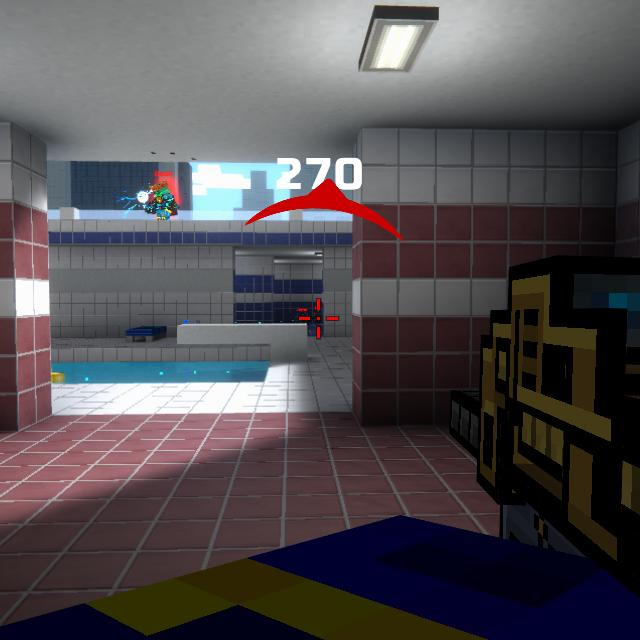Enemy: (149, 179, 175, 221)
